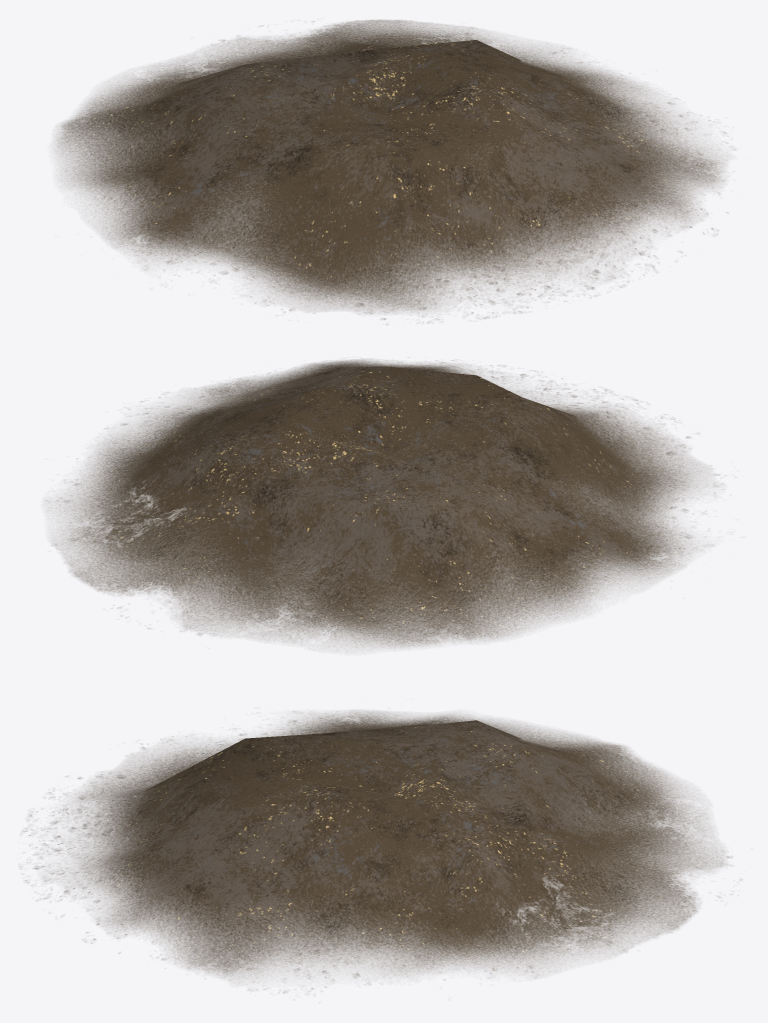
3 renders of one model, top to bottom at view 1: azimuth 30°, elevation 25°; view 2: azimuth 150°, elevation 25°; view 3: azimuth 270°, elevation 25°, orthographic.
Visible parts, largest first — view 1: Object_2; view 2: Object_2; view 3: Object_2.
Part boxes in pixels (x1=…): Object_2: x1=56, y1=20, x2=734, y2=324; Object_2: x1=46, y1=359, x2=724, y2=648; Object_2: x1=22, y1=710, x2=740, y2=992.
Size of the model in its own units: 58.7 by 8.08 by 58.7.
Materials: 1 (1 with a texture image).
